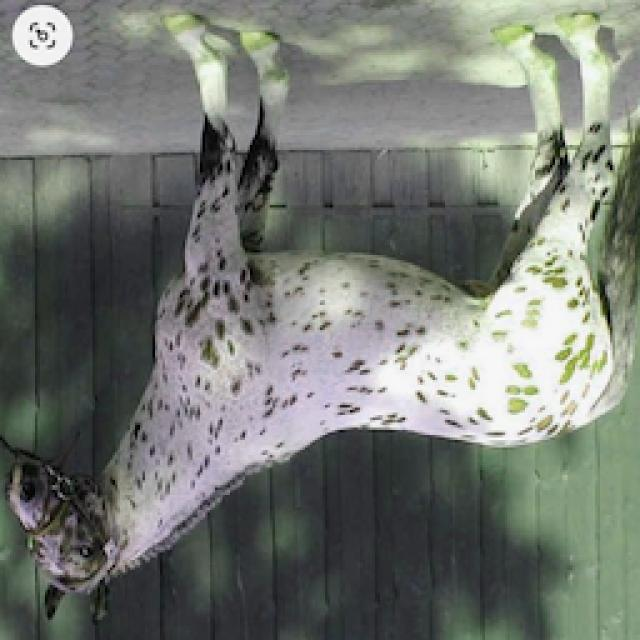Horse: (2, 5, 640, 625)
